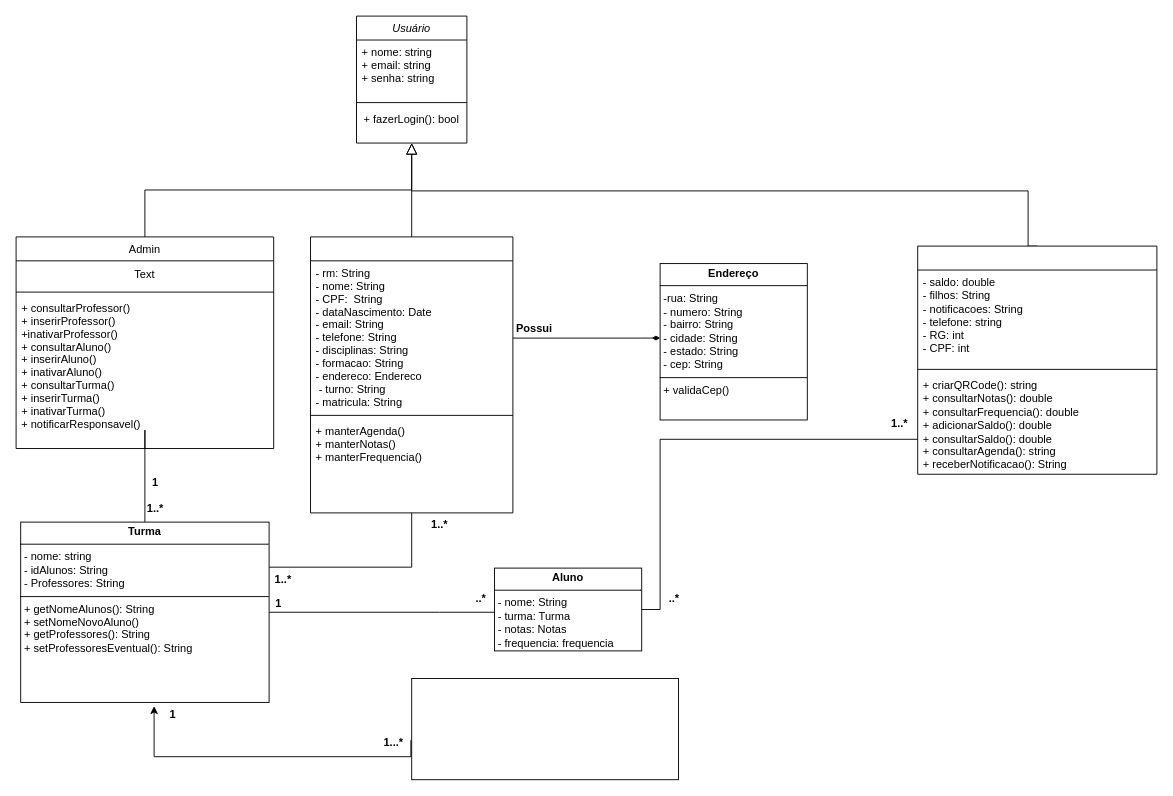
Some shapes in this 1173 by 796 pixel diagram are drawn without their labels. Here are the shapes that lost their labels. From the top down, the box of each, then its label:
(310, 236, 513, 513): Professor
(917, 245, 1157, 474): Responsável
(411, 678, 678, 780): Materia - nome: string - professor: Professor - turma: Turma
